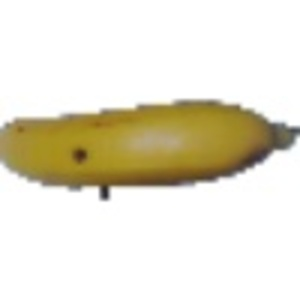banana: (4, 93, 292, 192)
